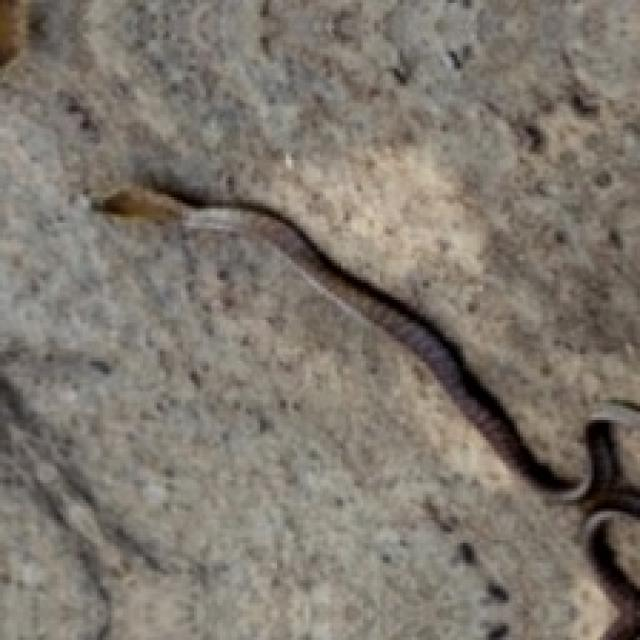philippine cobra: (91, 186, 637, 637)
